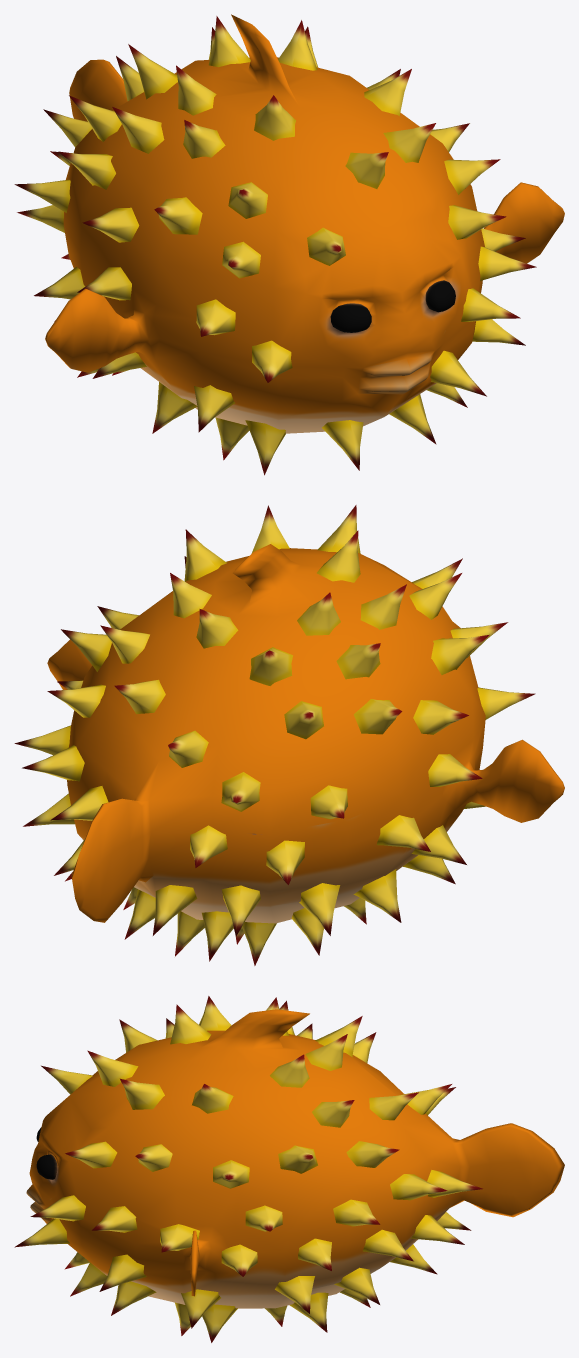
File: pufferfish.glb
The picture shows the model from 3 angles, top to bottom: view 1: azimuth 30°, elevation 25°; view 2: azimuth 150°, elevation 25°; view 3: azimuth 270°, elevation 25°; orthographic projection. The views are drawn at different scales.
Visible parts, largest first — view 1: pufferfish; view 2: pufferfish; view 3: pufferfish.
Part boxes in pixels (x1,y1,x2,y2): pufferfish: [14, 14, 564, 475]; pufferfish: [14, 505, 564, 965]; pufferfish: [14, 996, 564, 1342].
Size of the model in its own units: 3 by 2.19 by 3.5.
Materials: 2 (2 with a texture image).
